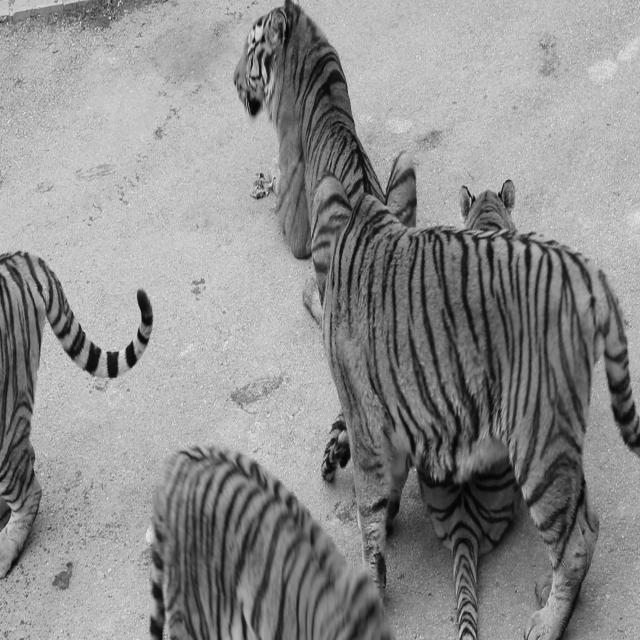Tiger: (232, 0, 639, 638), (0, 248, 153, 579), (147, 442, 397, 638)
